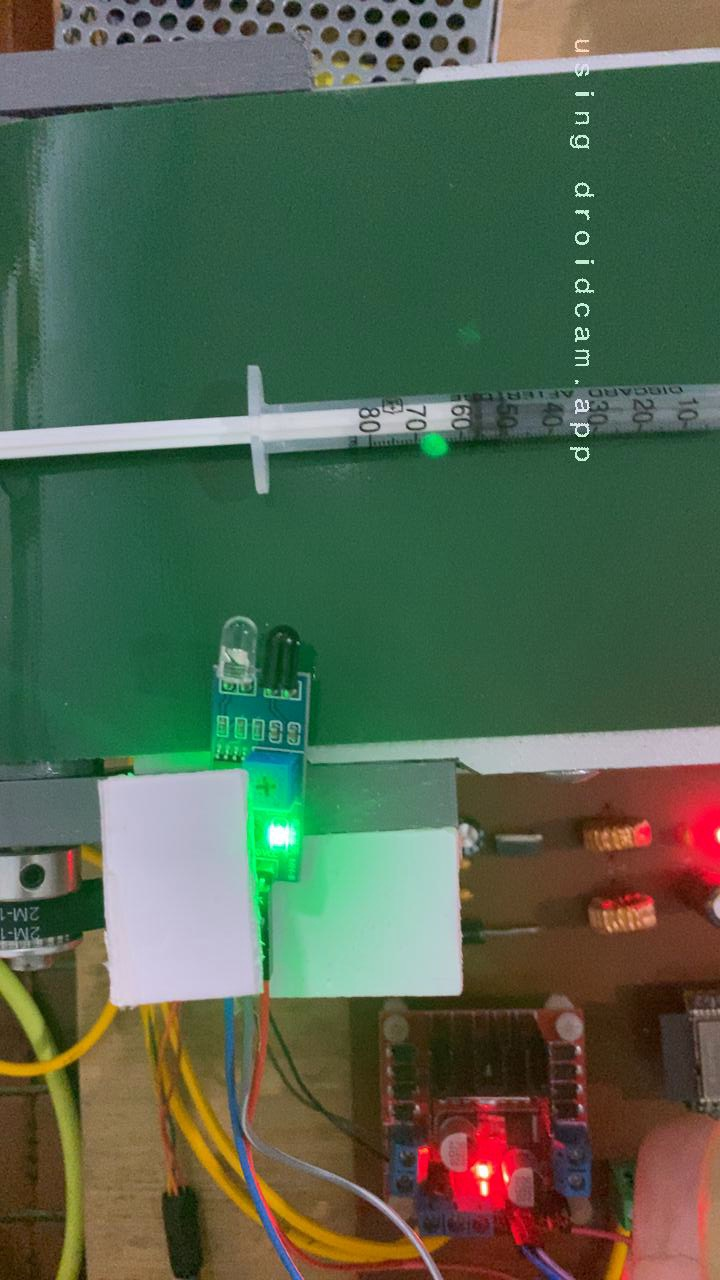syringe: (0, 360, 504, 501)
